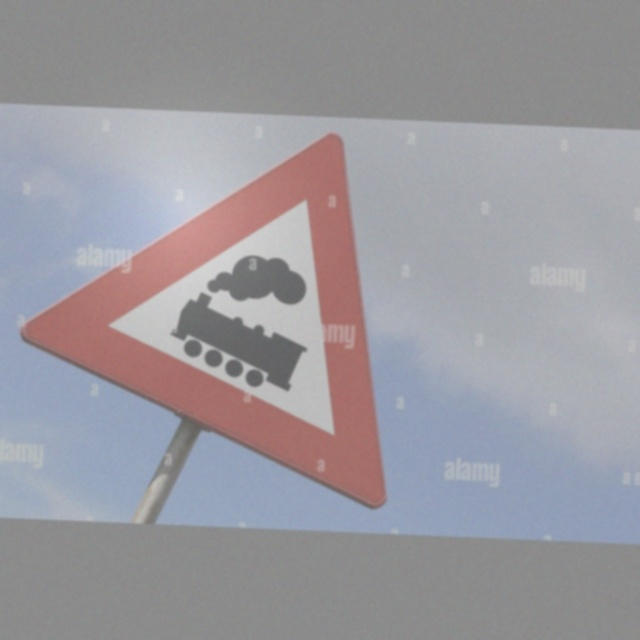Unguarded_Level_Crossing: (53, 126, 402, 460)
